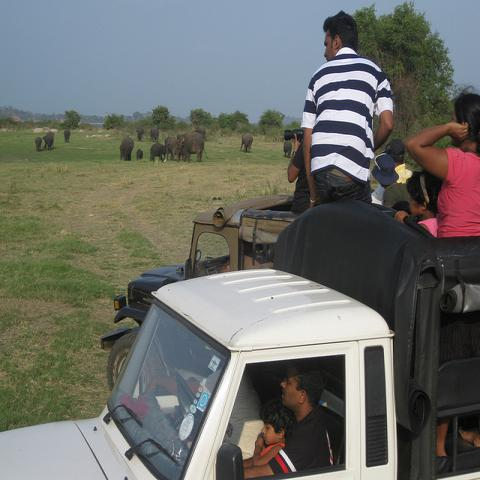car: (100, 193, 304, 389)
truck: (2, 200, 480, 475)
